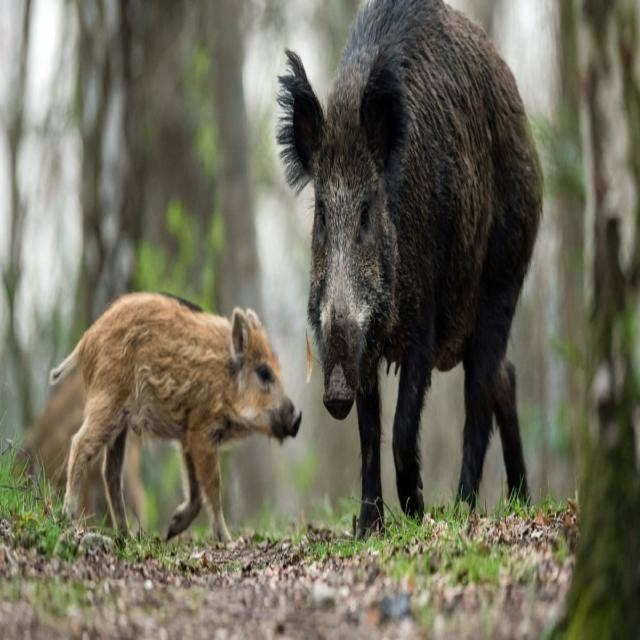Boar: (277, 0, 548, 524), (44, 286, 304, 545)
